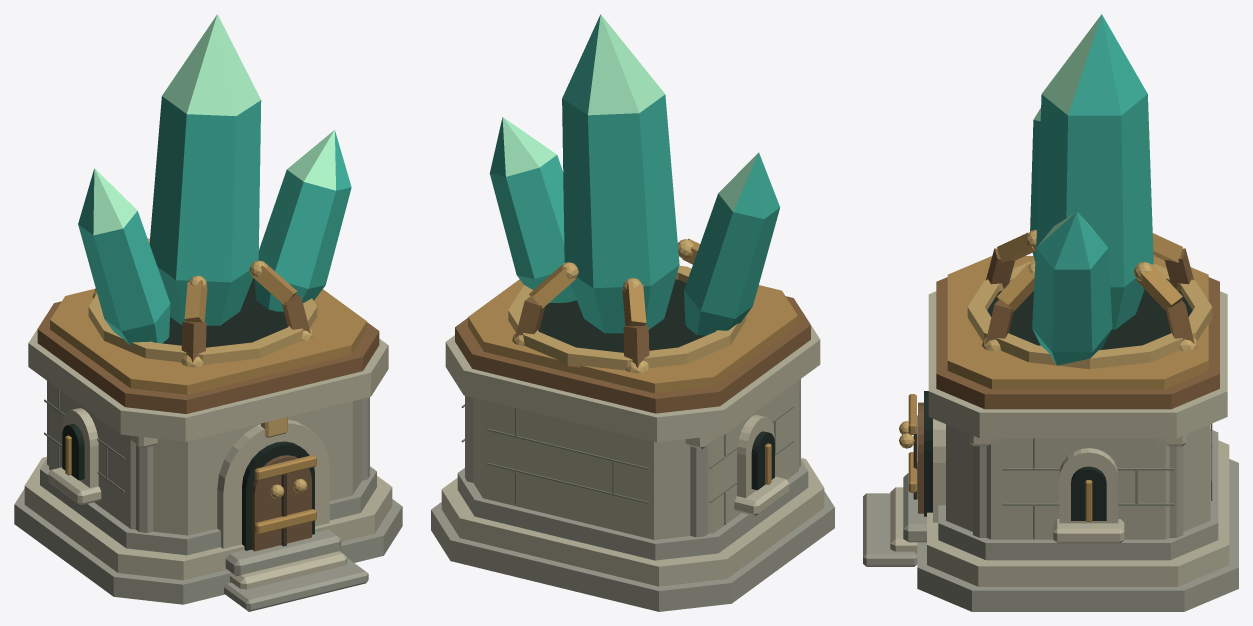
The model's file is a_crystal.glb.
3 views of the same model, side by side, from view 1: azimuth 30°, elevation 25°; view 2: azimuth 150°, elevation 25°; view 3: azimuth 270°, elevation 25° (orthographic). The views are drawn at different scales.
Parts seen in each view (by area): view 1: Stone, Glow, Metal, Timber; view 2: Stone, Glow, Metal; view 3: Stone, Glow, Metal, Timber.
Boxes of the visible parts, x1=… form: Stone: x1=14, y1=278, x2=402, y2=611; Glow: x1=78, y1=14, x2=351, y2=345; Metal: x1=37, y1=238, x2=379, y2=534; Timber: x1=252, y1=455, x2=311, y2=551; Stone: x1=431, y1=279, x2=834, y2=611; Glow: x1=489, y1=14, x2=780, y2=335; Metal: x1=455, y1=238, x2=810, y2=484; Stone: x1=863, y1=289, x2=1238, y2=611; Glow: x1=1030, y1=14, x2=1153, y2=365; Metal: x1=899, y1=229, x2=1219, y2=521; Timber: x1=913, y1=402, x2=923, y2=513.
Bounding box in the file's own units: 2.48 × 4.08 × 2.61.
